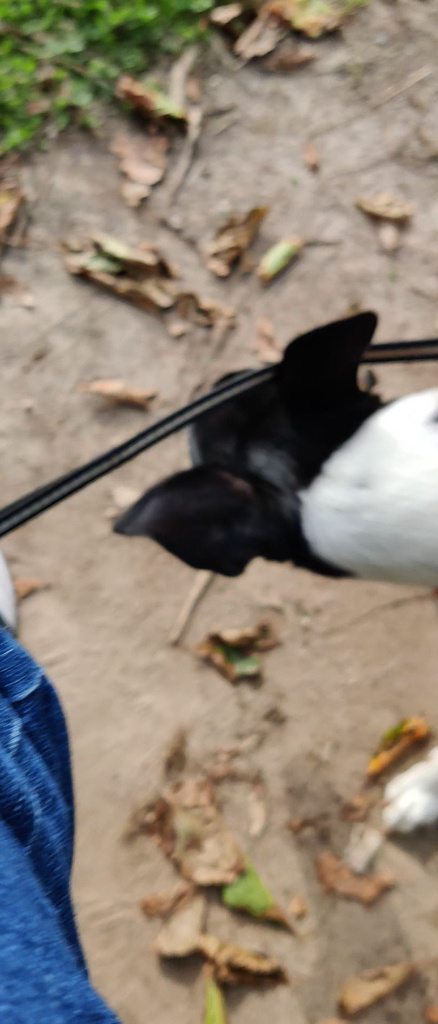Dog: (88, 298, 438, 634)
Humanoid: (0, 520, 144, 1024)
